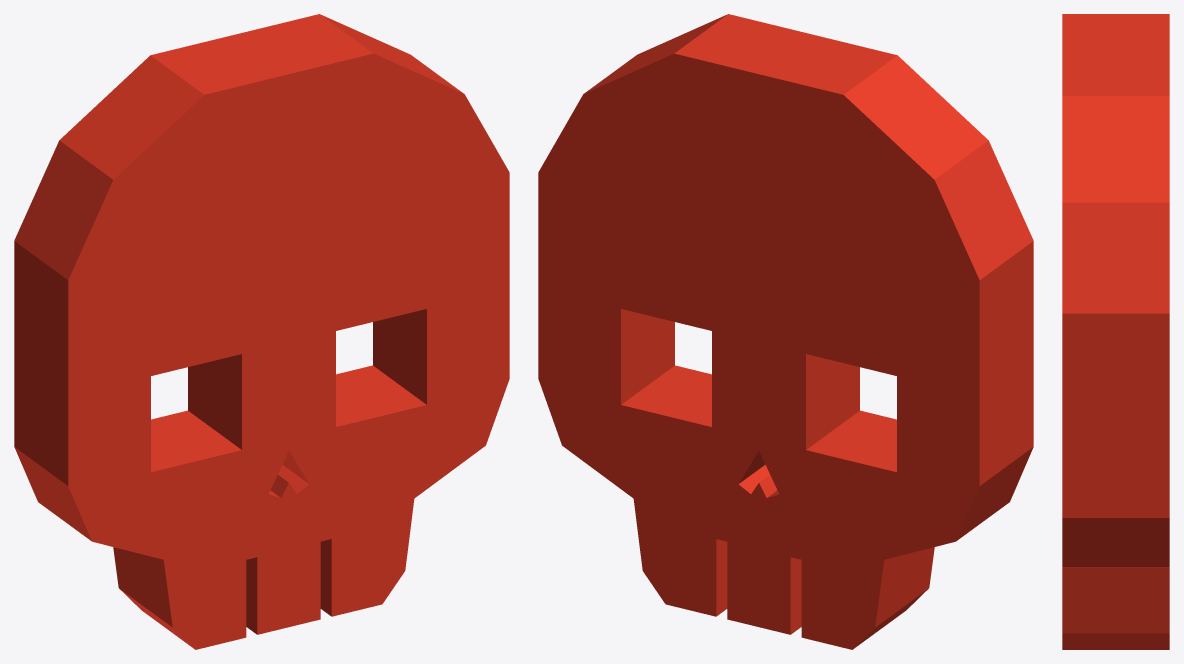
Rendered from Icon_Skull_02.fbx.
3 renders of one model, left to right at view 1: azimuth 30°, elevation 25°; view 2: azimuth 150°, elevation 25°; view 3: azimuth 270°, elevation 25°, orthographic.
Visible parts, largest first — view 1: Icon_Skull_02; view 2: Icon_Skull_02; view 3: Icon_Skull_02.
Boxes of the visible parts, box(x1,y1,x2,y2) form: Icon_Skull_02: box(14, 14, 509, 649); Icon_Skull_02: box(538, 14, 1033, 649); Icon_Skull_02: box(1062, 14, 1169, 649).
Bounding box in the file's own units: 56.88 × 68.08 × 12.06.
